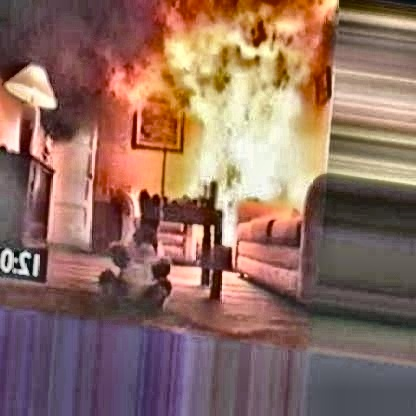fire: (114, 7, 334, 224)
smoke: (1, 3, 160, 136)
